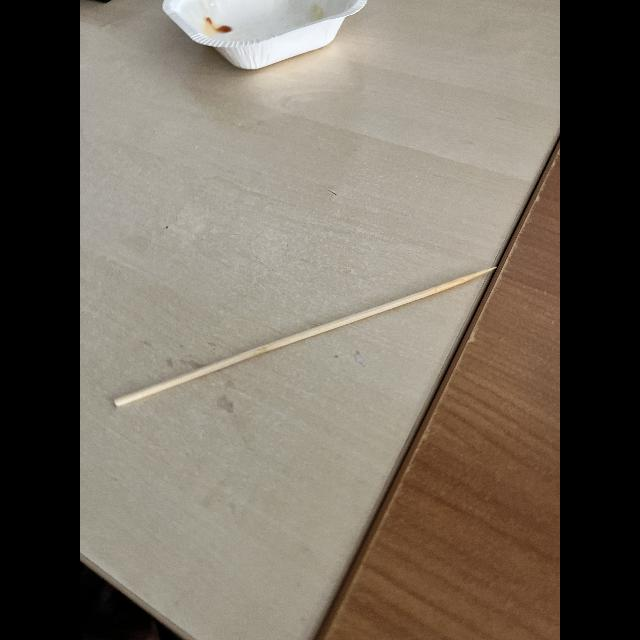cardboard_bowl: (154, 1, 380, 98)
stick: (96, 256, 512, 428)
